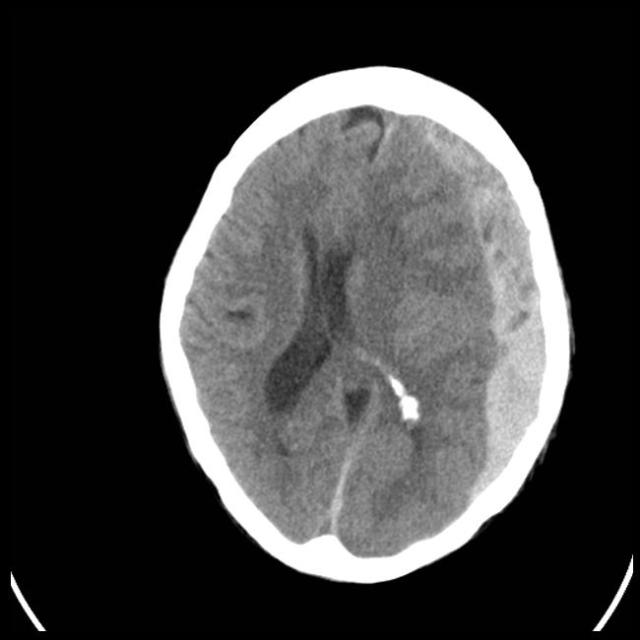lesion: (157, 71, 572, 580)
